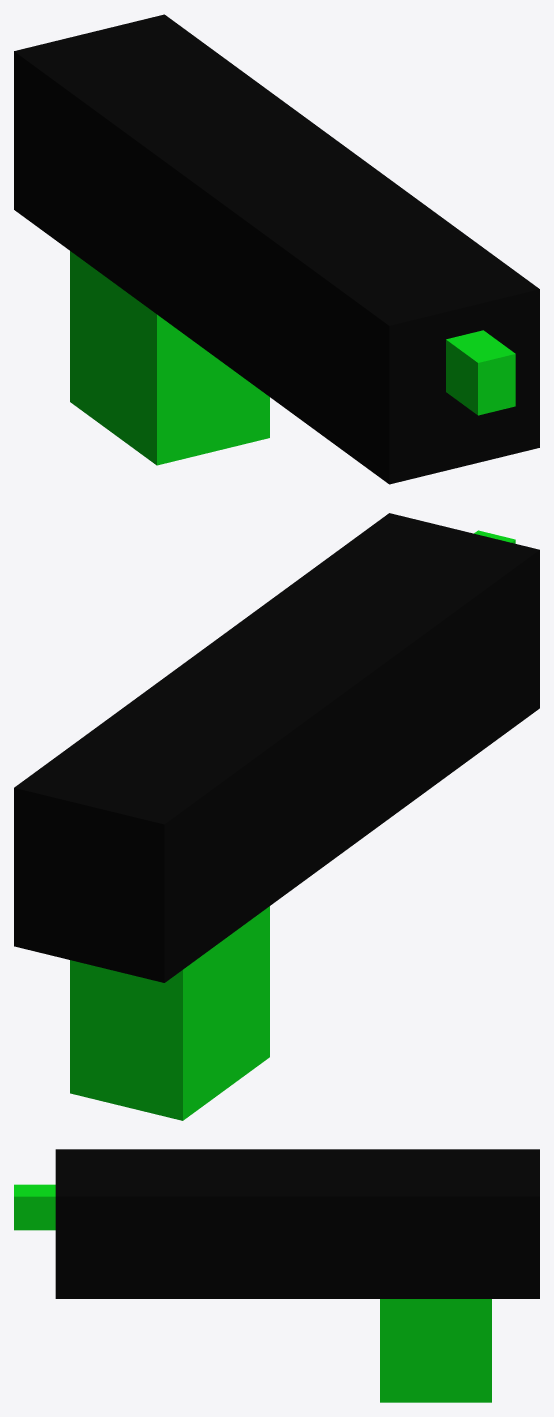
The model's file is simplePistol.fbx.
The picture shows the model from 3 angles, top to bottom: view 1: azimuth 30°, elevation 25°; view 2: azimuth 150°, elevation 25°; view 3: azimuth 270°, elevation 25°; orthographic projection. The views are drawn at different scales.
Visible parts, largest first — view 1: Cube.001; view 2: Cube.001; view 3: Cube.001.
Boxes of the visible parts, <box> form: Cube.001: <box>14,14,539,484</box>; Cube.001: <box>14,513,539,1120</box>; Cube.001: <box>14,1149,539,1402</box>.
Size of the model in its own units: 12 by 24.98 by 56.25.
